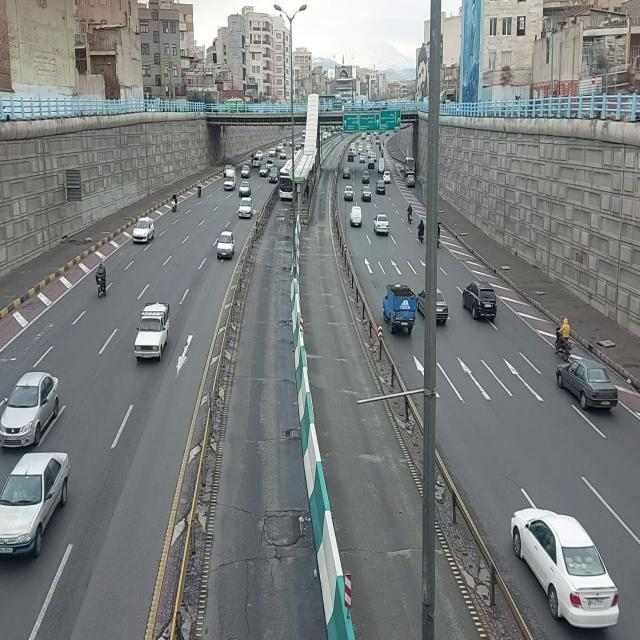Car: (509, 503, 620, 632), (0, 450, 71, 561), (0, 370, 62, 451), (555, 359, 619, 413), (461, 278, 500, 323), (416, 285, 452, 327), (216, 230, 237, 262), (132, 216, 154, 246), (373, 212, 391, 235), (238, 197, 254, 221), (349, 206, 363, 228)
Motorcycle: (553, 315, 573, 363), (95, 261, 110, 300), (417, 218, 427, 246), (172, 192, 179, 214), (407, 202, 413, 225), (196, 180, 202, 200)
Pickup: (133, 297, 173, 364), (382, 282, 415, 338), (224, 166, 238, 192)
